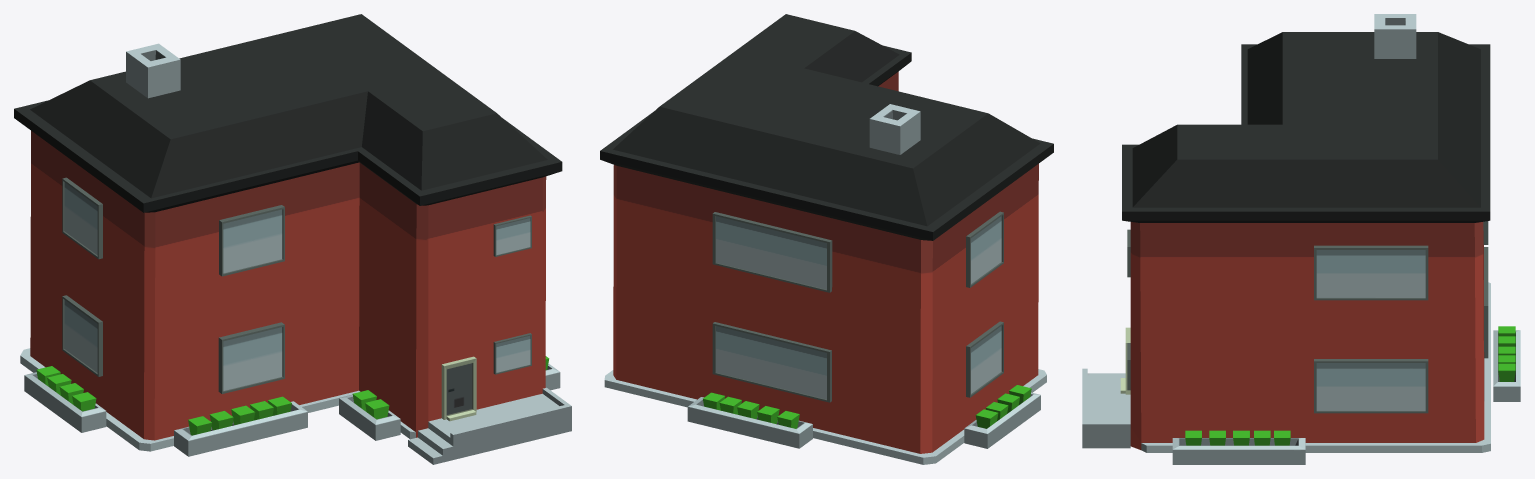
Rendered from Flatty Roof L High.fbx.
3 views of the same model, side by side, from view 1: azimuth 30°, elevation 25°; view 2: azimuth 150°, elevation 25°; view 3: azimuth 270°, elevation 25° (orthographic). The views are drawn at different scales.
Parts seen in each view (by area): view 1: Flatty Roof L High; view 2: Flatty Roof L High; view 3: Flatty Roof L High.
Boxes of the visible parts, bbox=[...] form: Flatty Roof L High: bbox=[14, 14, 571, 464]; Flatty Roof L High: bbox=[600, 14, 1053, 464]; Flatty Roof L High: bbox=[1082, 14, 1520, 464].
Bounding box in the file's own units: 6.11 × 4.6 × 5.96.
